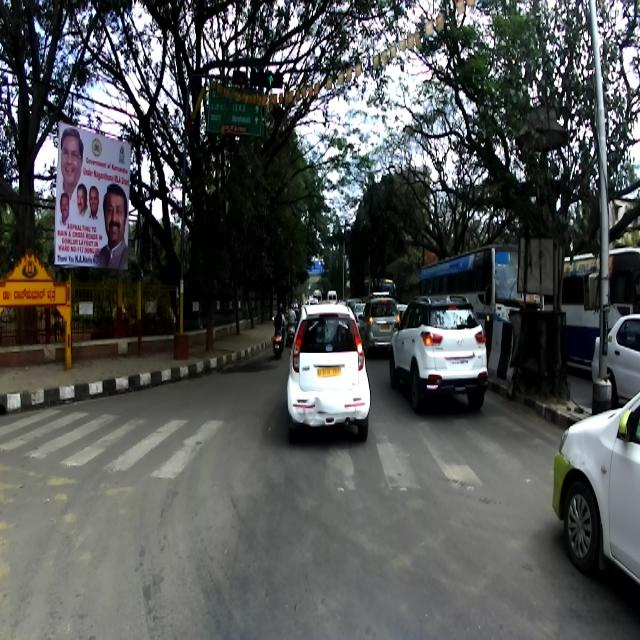Car_Hyundai: (388, 294, 488, 412)
Car_Maruti-Suzuki: (286, 304, 370, 442)
Car_TATA: (551, 351, 639, 588)
